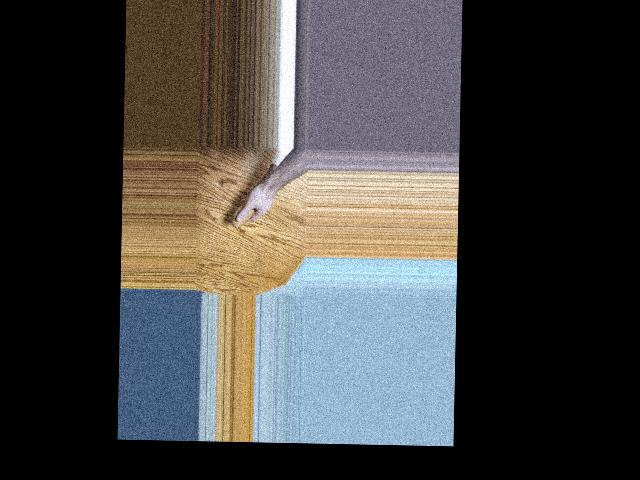sweet_potato: (232, 161, 279, 229)
